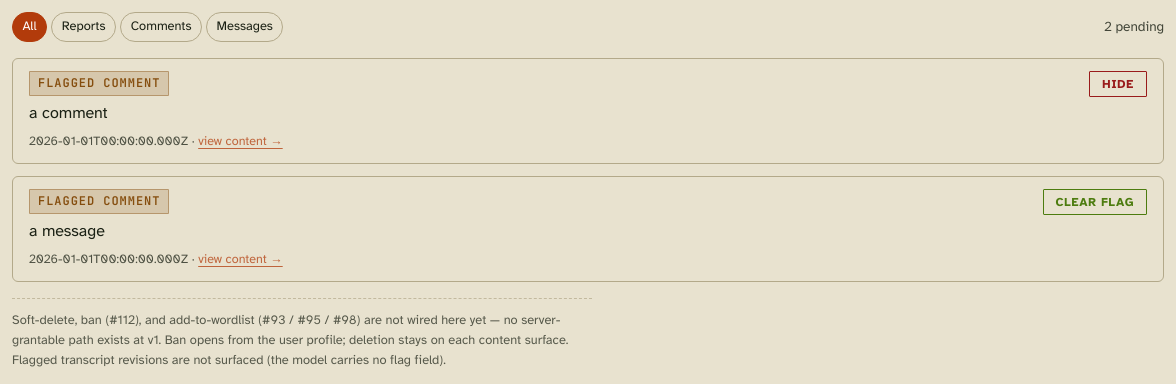
it: ModerationQueue › filters by source type
The image size is (1176, 384).
Expected: the text "a comment" is shown, [29,103,108,123]
Step 1. Click the button "Messages" → (245, 27), box [206,12,284,42]
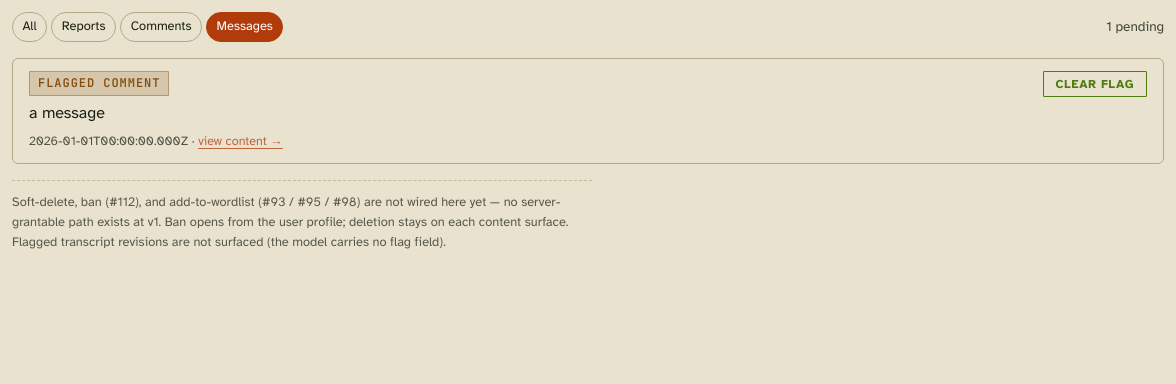
Expected: the text "a message" is shown, [29,103,105,123]
Now the text "a comment" is gone
